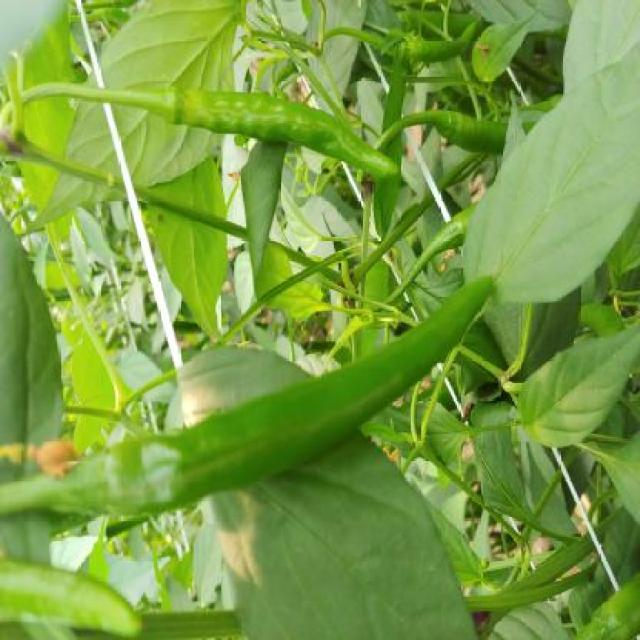green chilli: (46, 254, 502, 515)
